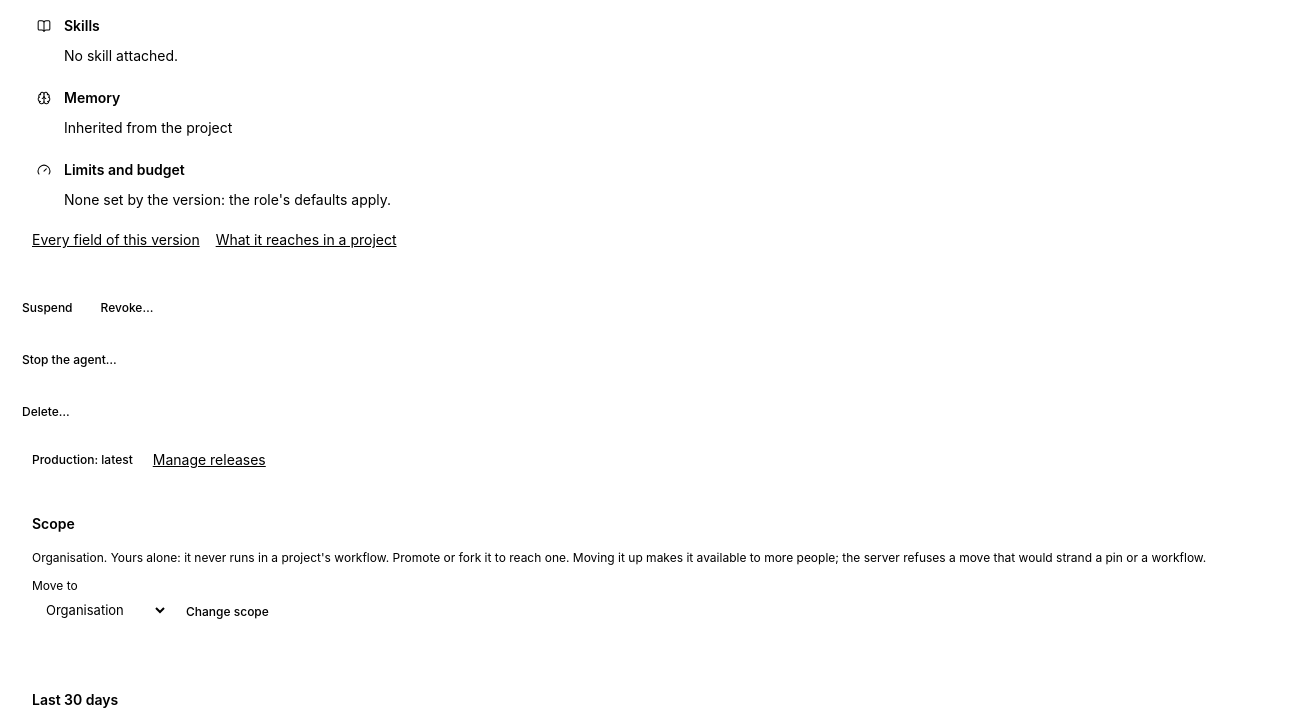
Test: an agent's Stop › lists what could not be stopped yet
(page scrolled)
Click the button "Stop the agent…": (69, 360) x1=12 y1=346 x2=127 y2=374
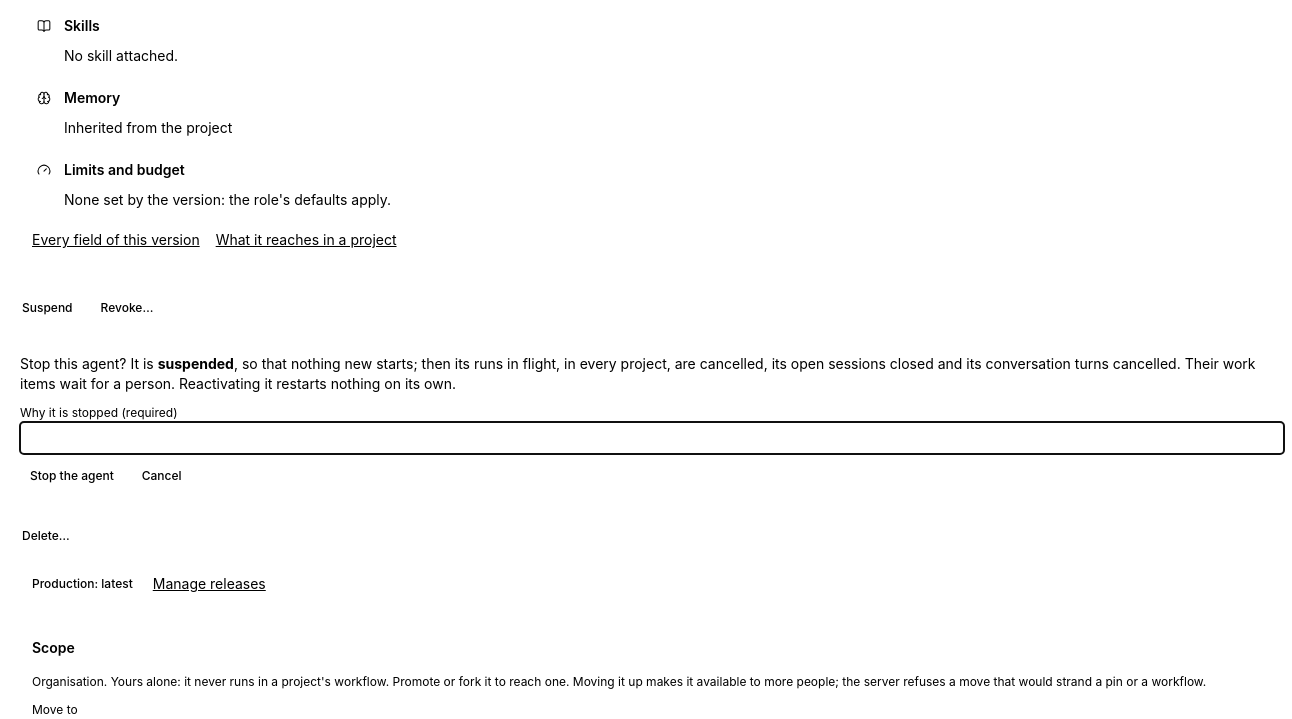
Check: the button "Stop the agent" is disabled, box x1=20 y1=462 x2=124 y2=490
In the field: (652, 438) x1=20 y1=422 x2=1284 y2=454, type "runaway spend"
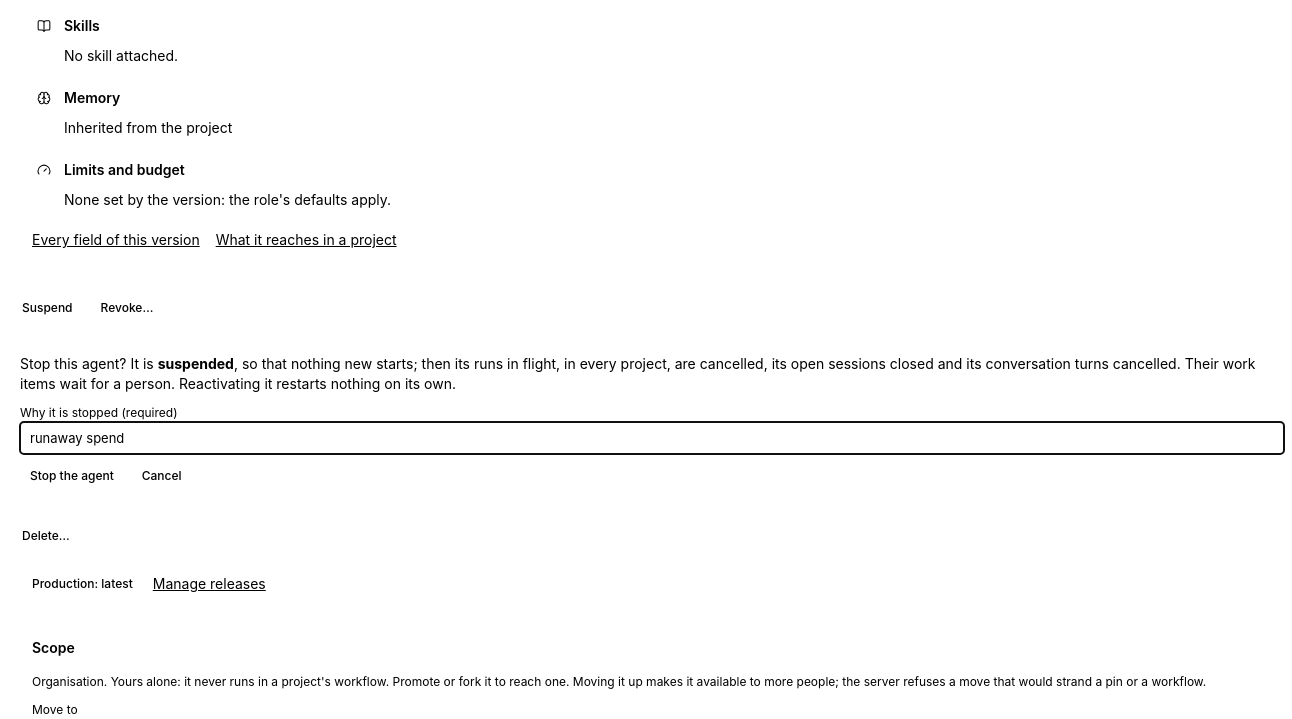
Click the button "Stop the agent": (72, 476) x1=20 y1=462 x2=124 y2=490
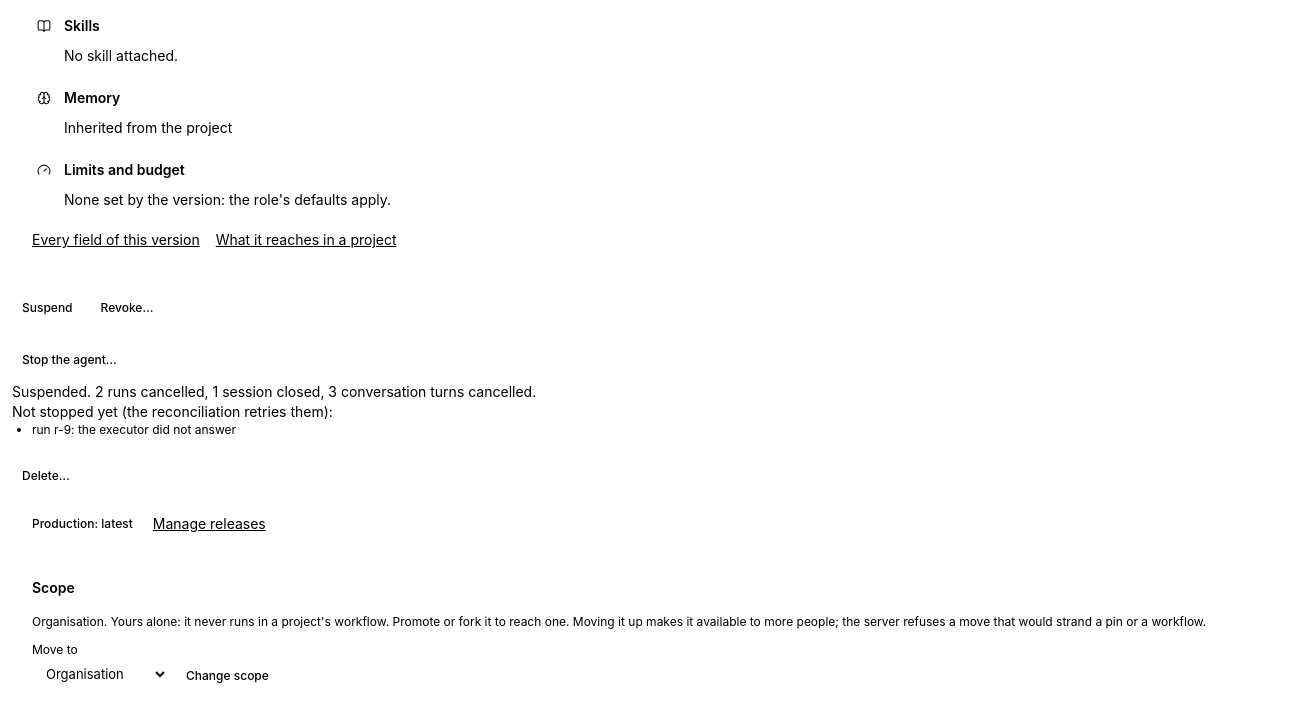
Check: the message with test id "agent-stop-result" shows "Suspended. 2 runs cancelled, 1 session closed, 3 conversation turns cancelled.", box x1=12 y1=383 x2=536 y2=437
Check: the message with test id "agent-stop-result" shows "run r-9: the executor did not answer", box x1=12 y1=383 x2=536 y2=437
